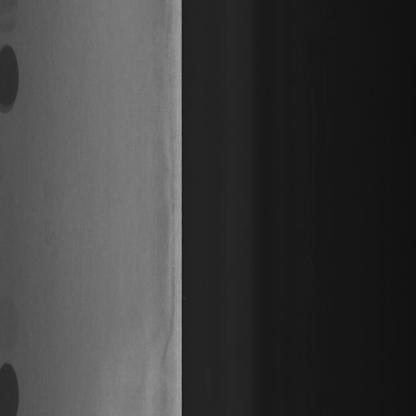oil_spot: (0, 332, 25, 414), (0, 33, 23, 119)
